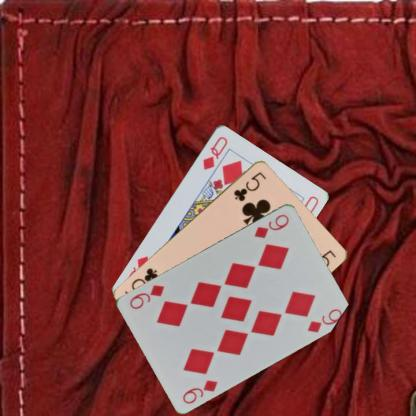5c: (230, 169, 268, 202)
9d: (251, 211, 291, 239), (180, 377, 219, 405)
Qd: (200, 133, 229, 171)
